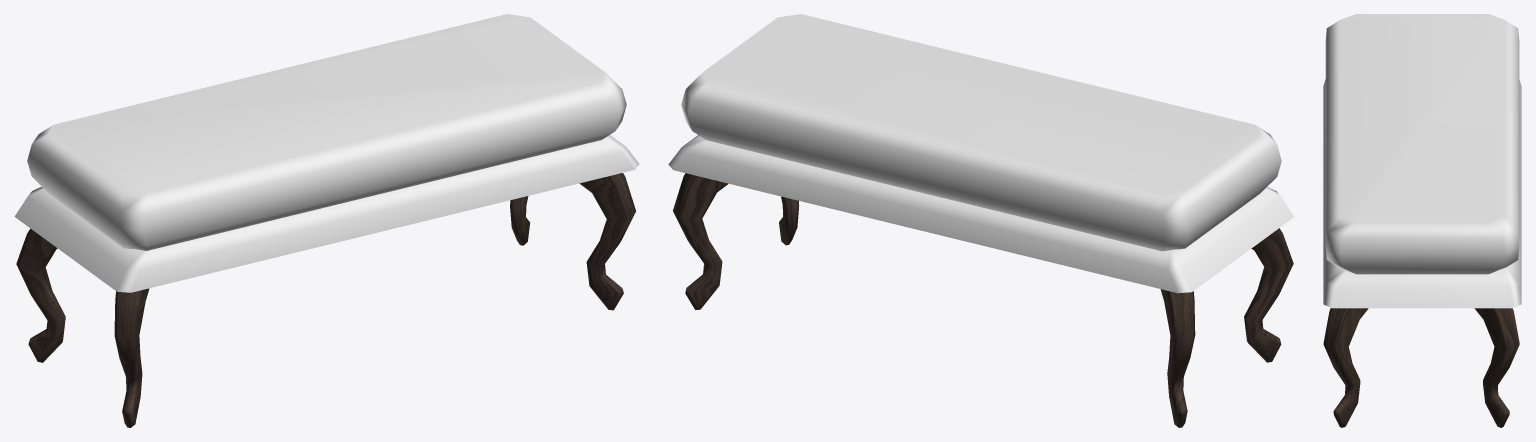
File: chair_036.fbx
3 renders of one model, left to right at view 1: azimuth 30°, elevation 25°; view 2: azimuth 150°, elevation 25°; view 3: azimuth 270°, elevation 25°, orthographic. The views are drawn at different scales.
Parts seen in each view (by area): view 1: chair_036; view 2: chair_036; view 3: chair_036.
Boxes of the visible parts, <box> form: chair_036: <box>14,14,639,427</box>; chair_036: <box>668,14,1294,427</box>; chair_036: <box>1323,14,1521,427</box>.
Size of the model in its own units: 156 by 57.64 by 65.87.
